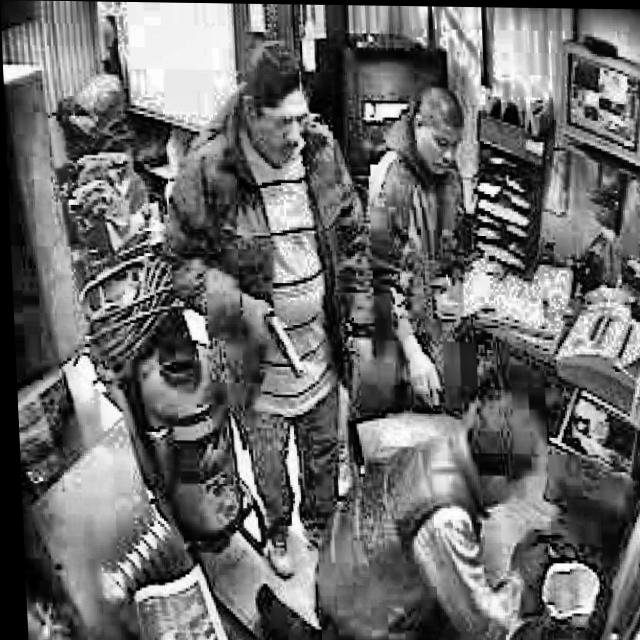robbery: (156, 33, 380, 425), (239, 396, 548, 640)
